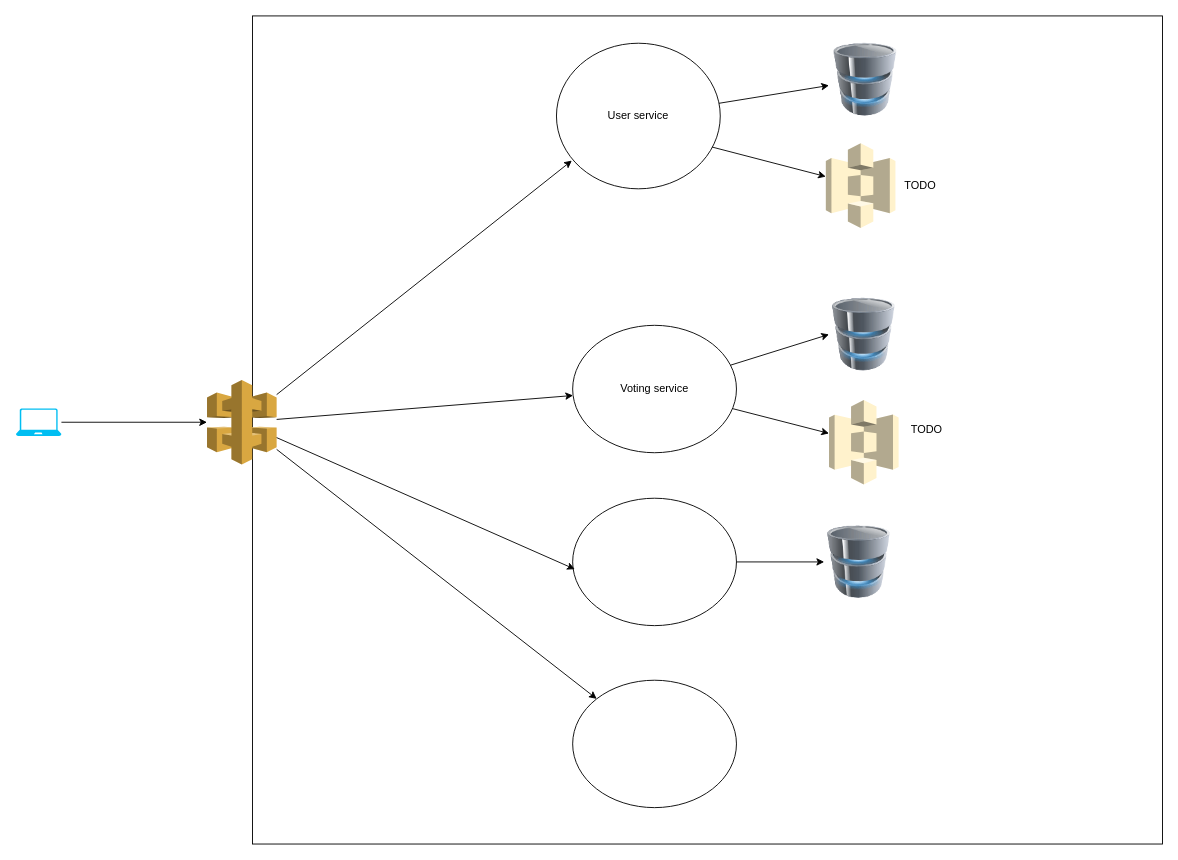
Some shapes in this 1178 by 860 pixel diagram are drawn without their labels. The centre of each missing label's shape, as x and y in pixels:
"Contact service (TODO)" goes at point 654,561.
"Fronend service" goes at point 654,743.
